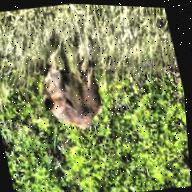boar: (28, 27, 123, 136)
